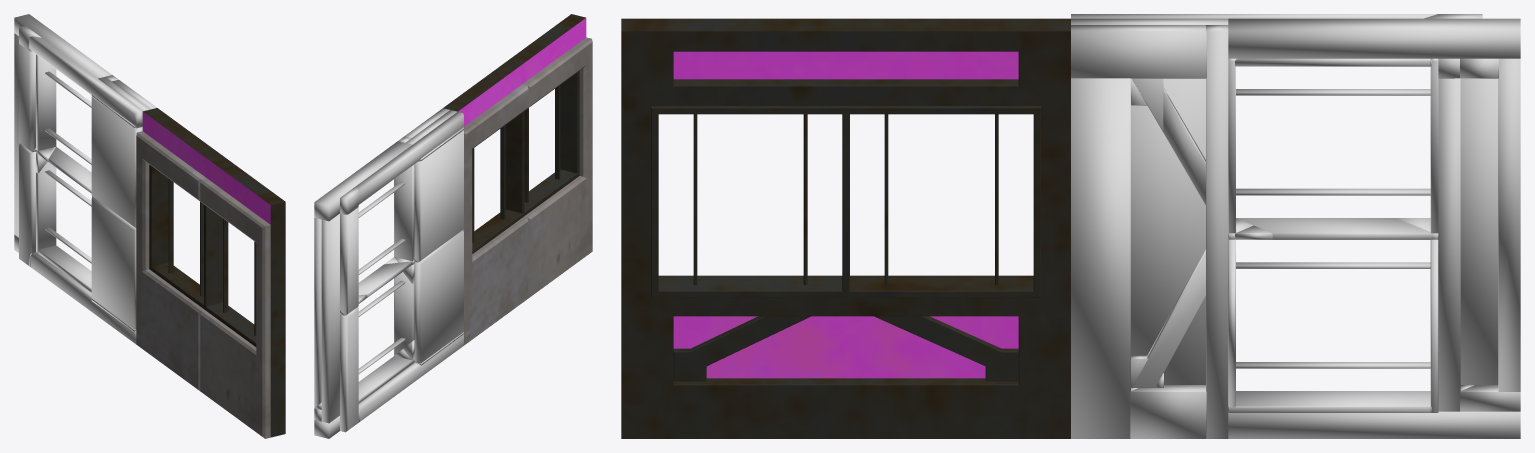
Rendered from SM_Wall_Window_01_Small.fbx.
3 renders of one model, left to right at view 1: azimuth 30°, elevation 25°; view 2: azimuth 150°, elevation 25°; view 3: azimuth 270°, elevation 25°, orthographic. The views are drawn at different scales.
Parts seen in each view (by area): view 1: SM_Wall_Window_01_Small, SM_Wall_Window_01_Small_ConvexHulls; view 2: SM_Wall_Window_01_Small_ConvexHulls, SM_Wall_Window_01_Small; view 3: SM_Wall_Window_01_Small_ConvexHulls, SM_Wall_Window_01_Small.
Boxes of the visible parts, <box> form: SM_Wall_Window_01_Small: <box>136,108,285,438</box>; SM_Wall_Window_01_Small_ConvexHulls: <box>14,14,156,344</box>; SM_Wall_Window_01_Small_ConvexHulls: <box>314,108,463,438</box>; SM_Wall_Window_01_Small: <box>443,14,592,345</box>; SM_Wall_Window_01_Small_ConvexHulls: <box>1071,14,1520,438</box>; SM_Wall_Window_01_Small: <box>621,18,1070,438</box>.
Size of the model in its own units: 0.3256 by 3 by 6.
